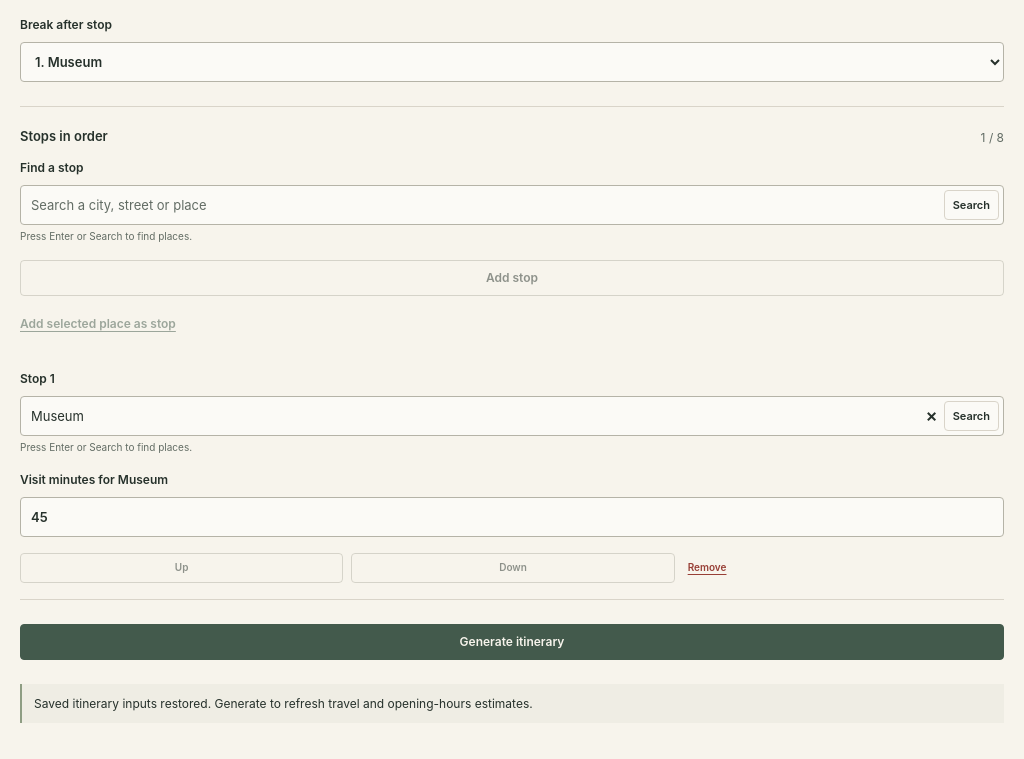
restores itinerary inputs and break settings, displays partial warnings, and updates the original saved trip
(page scrolled)
Expected: the dropdown labelled "Stop 1" holds "Museum", [21,397,920,435]
Expected: the number field labelled "Visit minutes for Museum" holds "45", [20,497,1004,537]
Click the button "Generate itinerary".
click(512, 642)  # box [20,624,1004,660]
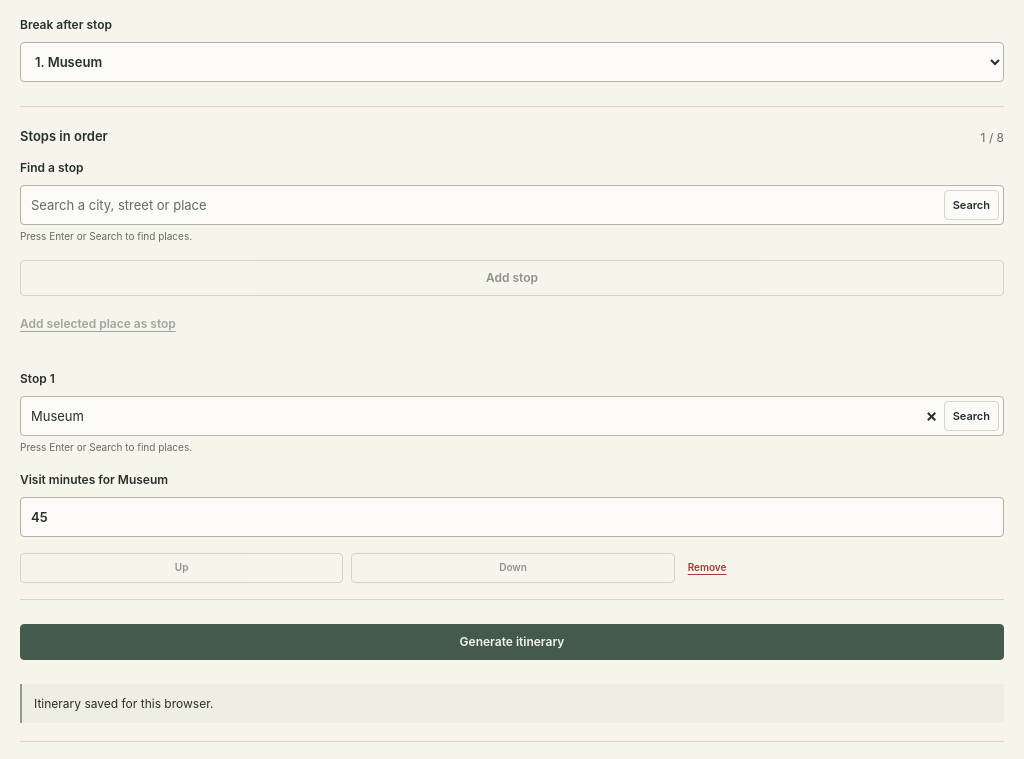
Now the text "Itinerary saved for this browser." is shown, box [20,684,1004,723]
